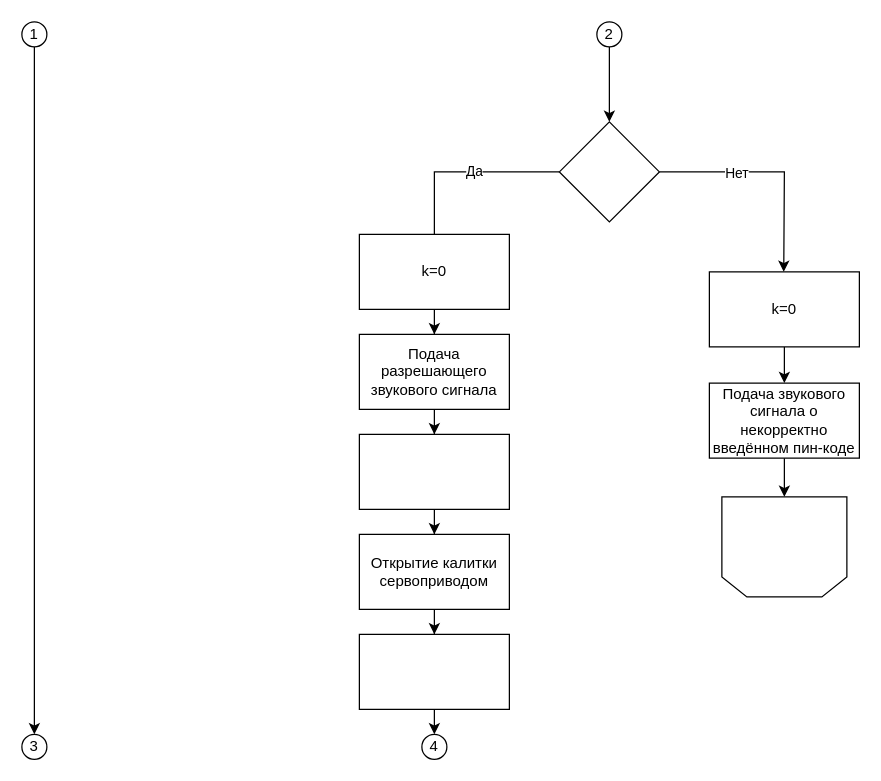
Some shapes in this 881 by 781 pixel diagram are drawn without their labels. The shapes that lost their labels are listed below. From the top down, each one's centre as x and y in pixels, then its label:
the point at 608,171: buttons = pass?
the point at 433,471: Размыкание соленоида
the point at 784,546: Конец цикла
the point at 433,671: Снятие показаний с датчика расстояния
